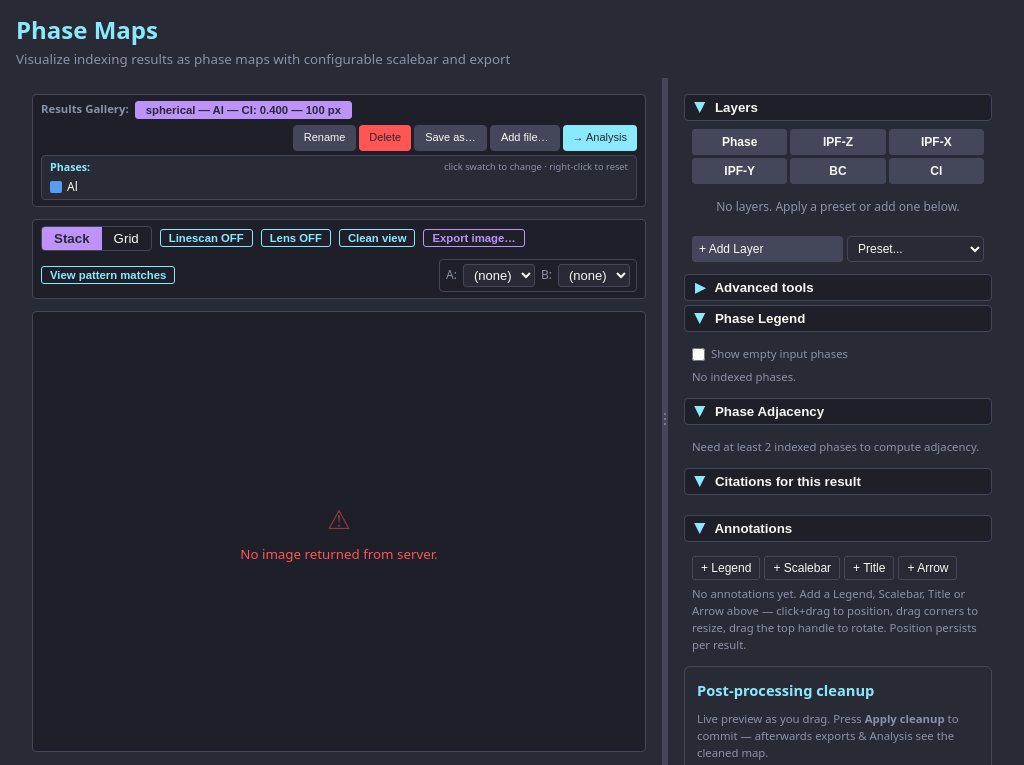
Test: a result this session did not index › learns of a refined result made elsewhere the next time the page reads the list
Expected: the button "Refined" is not shown
Click the tab "spherical — Al — CI: 0.400 — 100 px".
click(243, 110)  # box 135,101 -> 352,119
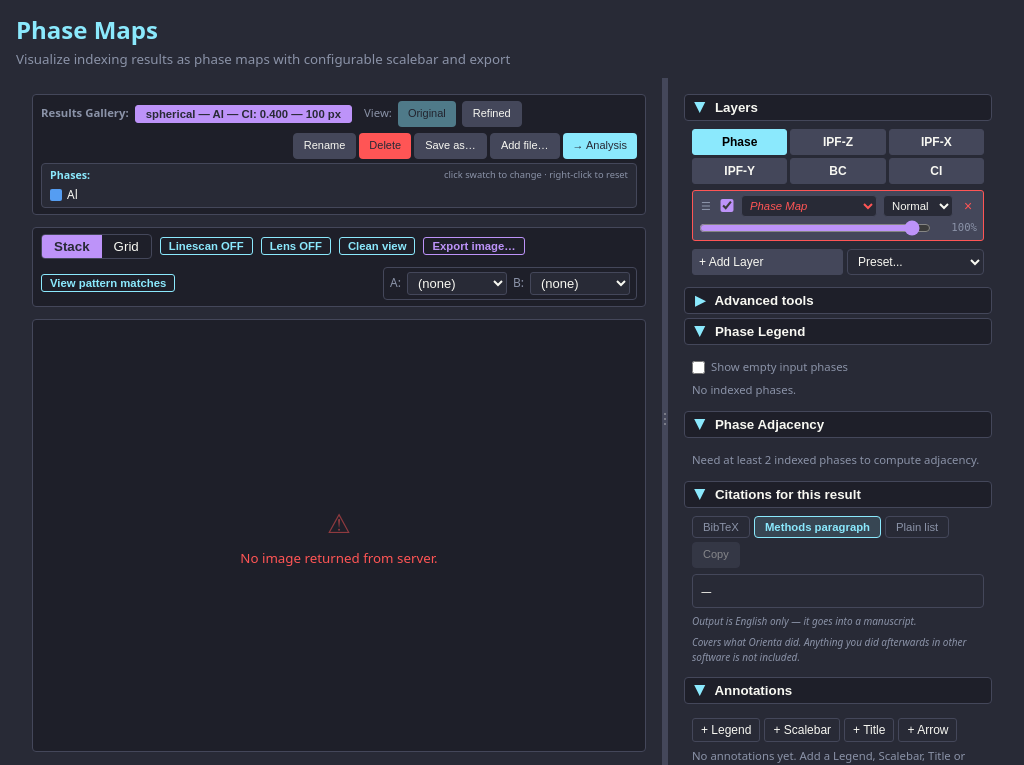
Expected: the button "Refined" is shown, 462,101 -> 522,127
